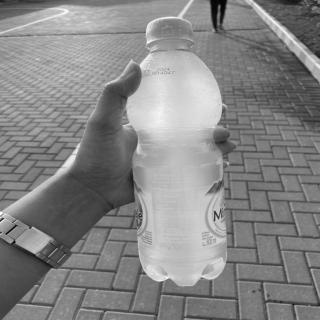plastic_bottles: (126, 18, 228, 289)
